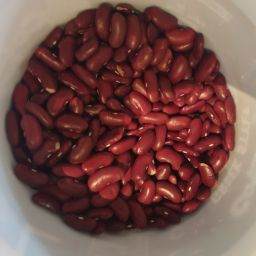Pinto Beans (kidney beans): (5, 3, 251, 250), (41, 157, 180, 230), (168, 70, 230, 174), (87, 112, 167, 183), (51, 39, 129, 109), (110, 14, 179, 92), (27, 83, 79, 174)
